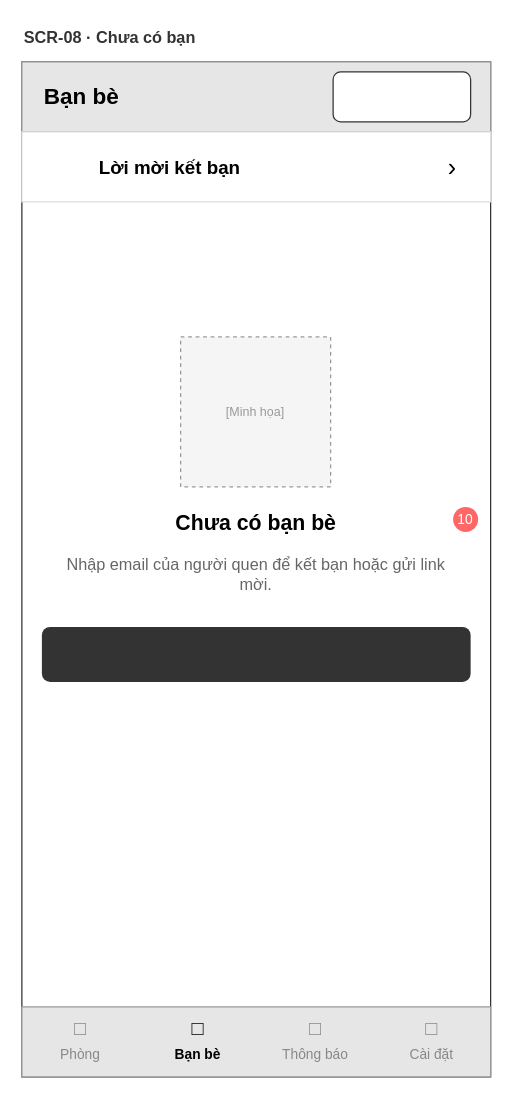
This 513x1099 diagram has some shape labels left out. Each missing label, with the centre of its shape:
+ Thêm bạn: the point at 401,96
Thêm bạn: the point at 255,653
